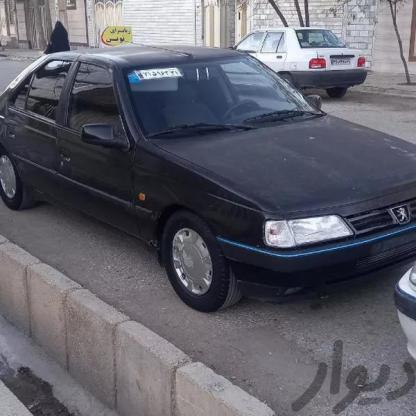Car: (0, 40, 416, 333), (212, 12, 370, 112)
